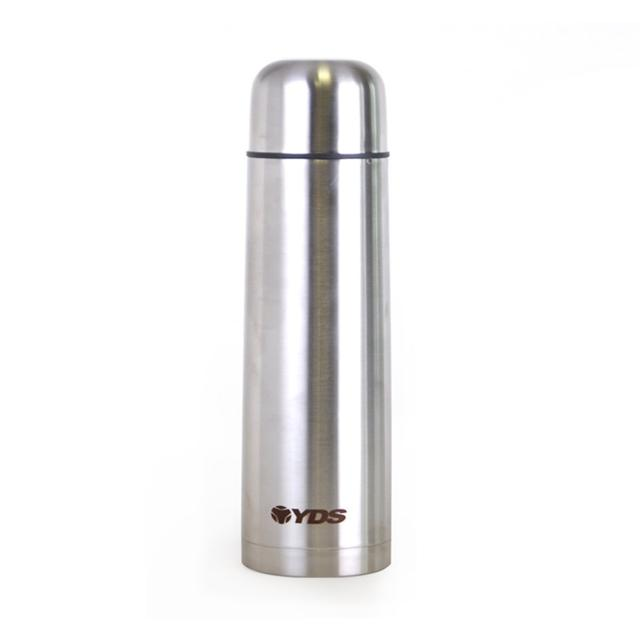Termos: (240, 55, 391, 579)
